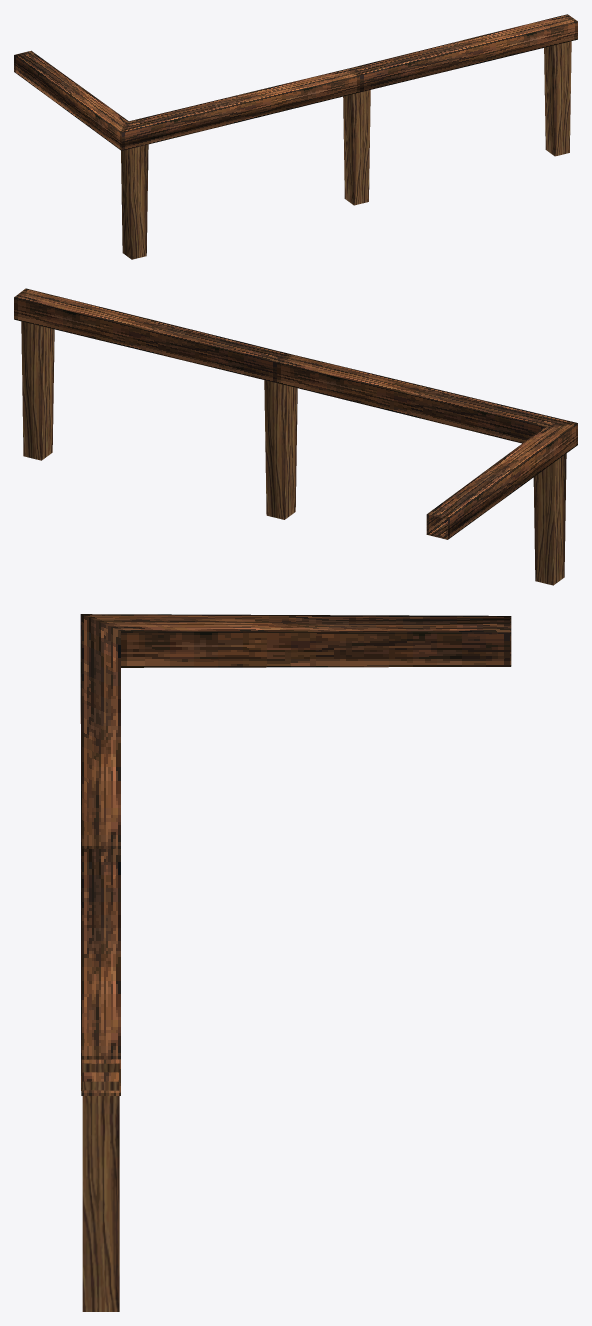
The model's file is LAKETOWN_EXTERIOR_PS_LT_HANDRAILS74746__GX.obj.
3 renders of one model, top to bottom at view 1: azimuth 30°, elevation 25°; view 2: azimuth 150°, elevation 25°; view 3: azimuth 270°, elevation 25°, orthographic. The views are drawn at different scales.
Parts seen in each view (by area): view 1: dRails74746__GX; view 2: dRails74746__GX; view 3: dRails74746__GX.
Part boxes in pixels (<box>): dRails74746__GX: <box>14,14,577,259</box>; dRails74746__GX: <box>14,288,577,585</box>; dRails74746__GX: <box>80,614,511,1311</box>.
Bounding box in the file's own units: 359 × 97.72 × 147.
